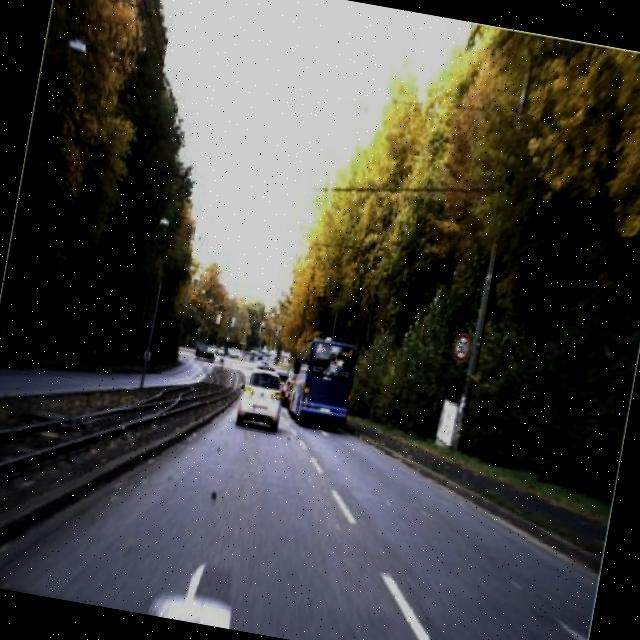Ograniczenie predkosci do 50: (448, 329, 474, 366)
